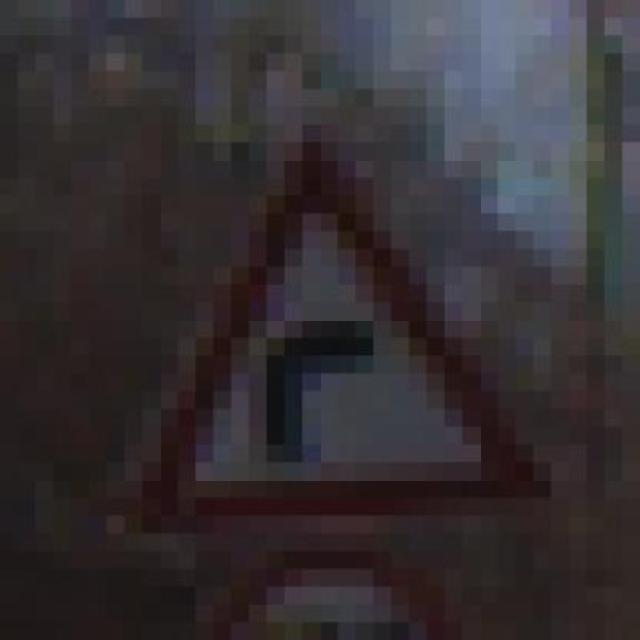Dangerous Rright Curve Ahead: (71, 106, 569, 534)
